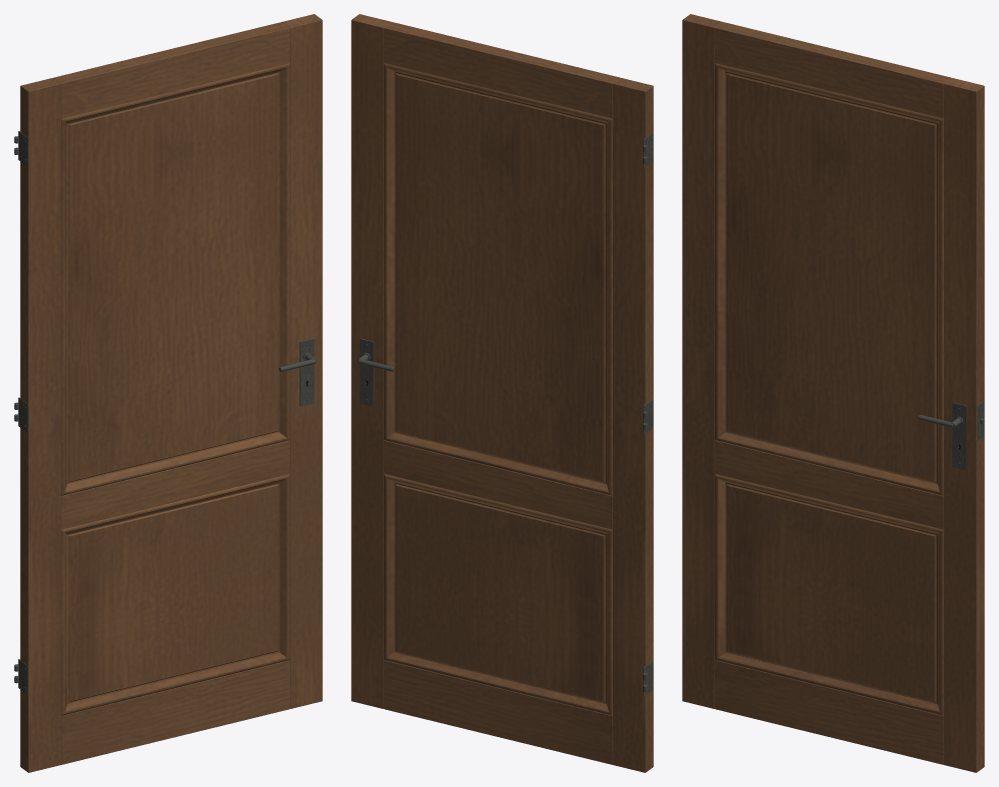
The model's file is door_leaf.glb.
3 renders of one model, left to right at view 1: azimuth 30°, elevation 25°; view 2: azimuth 150°, elevation 25°; view 3: azimuth 330°, elevation 25°, orthographic.
Visible parts, largest first — view 1: door_leaf; view 2: door_leaf; view 3: door_leaf.
Boxes of the visible parts, x1,y1,x2,y2 form: door_leaf: (14, 14, 322, 772); door_leaf: (351, 14, 653, 772); door_leaf: (682, 14, 984, 772).
Bounding box in the file's own units: 1.02 × 2.2 × 0.15.
Materials: 3 (2 with a texture image).
